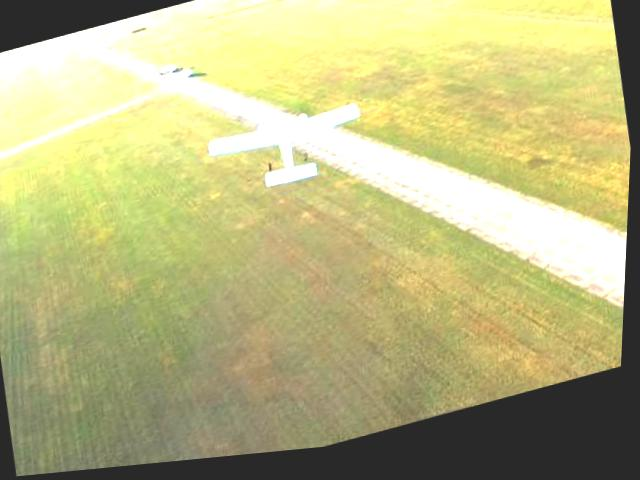uav: (204, 104, 372, 210)
